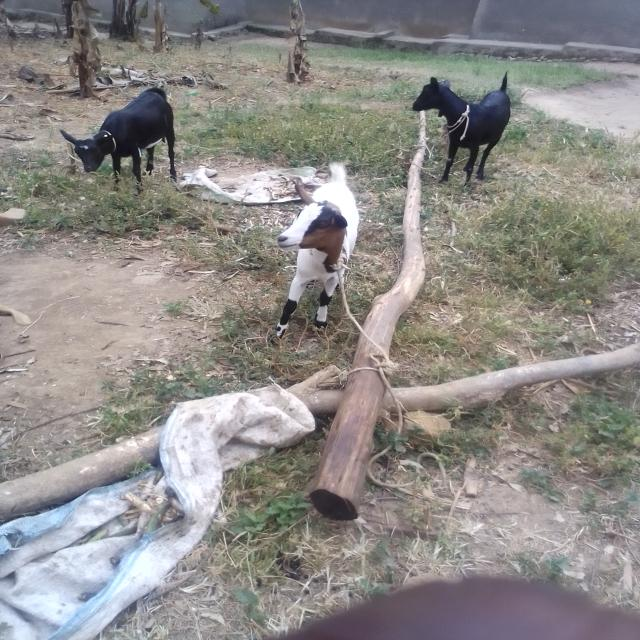goat: (239, 153, 397, 353)
